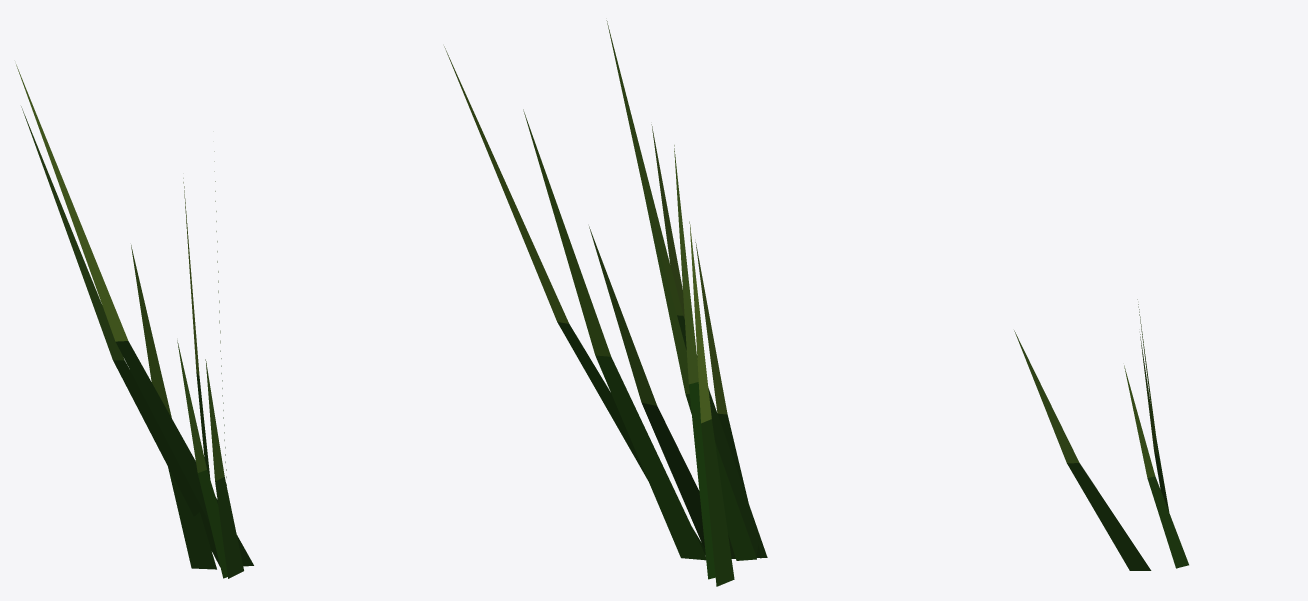
File: GrassTuft.glb
3 views of the same model, side by side, from view 1: azimuth 30°, elevation 25°; view 2: azimuth 150°, elevation 25°; view 3: azimuth 270°, elevation 25° (orthographic). The views are drawn at different scales.
Parts seen in each view (by area): view 1: GrassTuft; view 2: GrassTuft; view 3: GrassTuft.
Boxes of the visible parts, x1,y1,x2,y2 form: GrassTuft: [16, 64, 253, 578]; GrassTuft: [444, 20, 767, 586]; GrassTuft: [1014, 299, 1188, 570].
Size of the model in its own units: 1.78 by 2.12 by 1.16.
